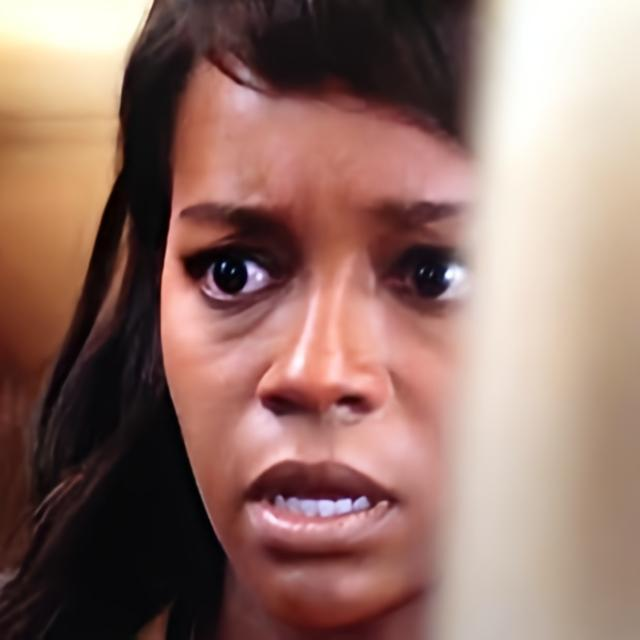fear: (159, 54, 499, 628)
